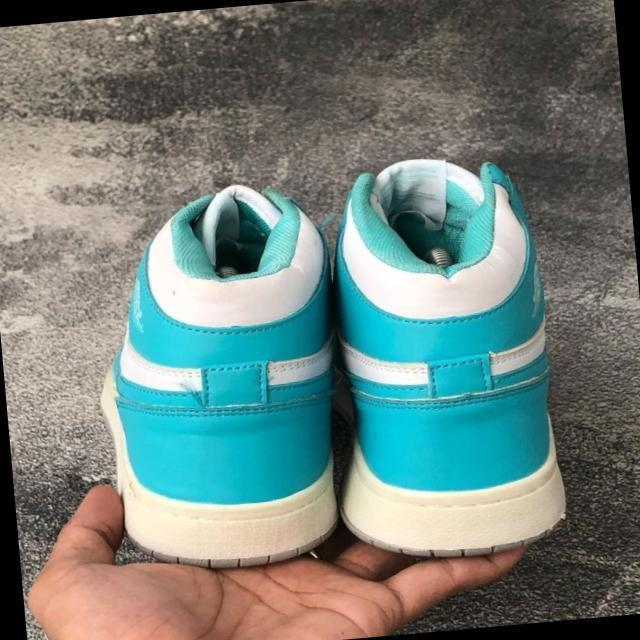nike fake jordan 1: (79, 175, 364, 578), (308, 145, 576, 570)
